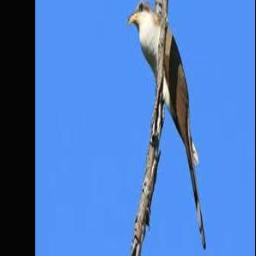Cuckoo: (127, 0, 206, 250)
